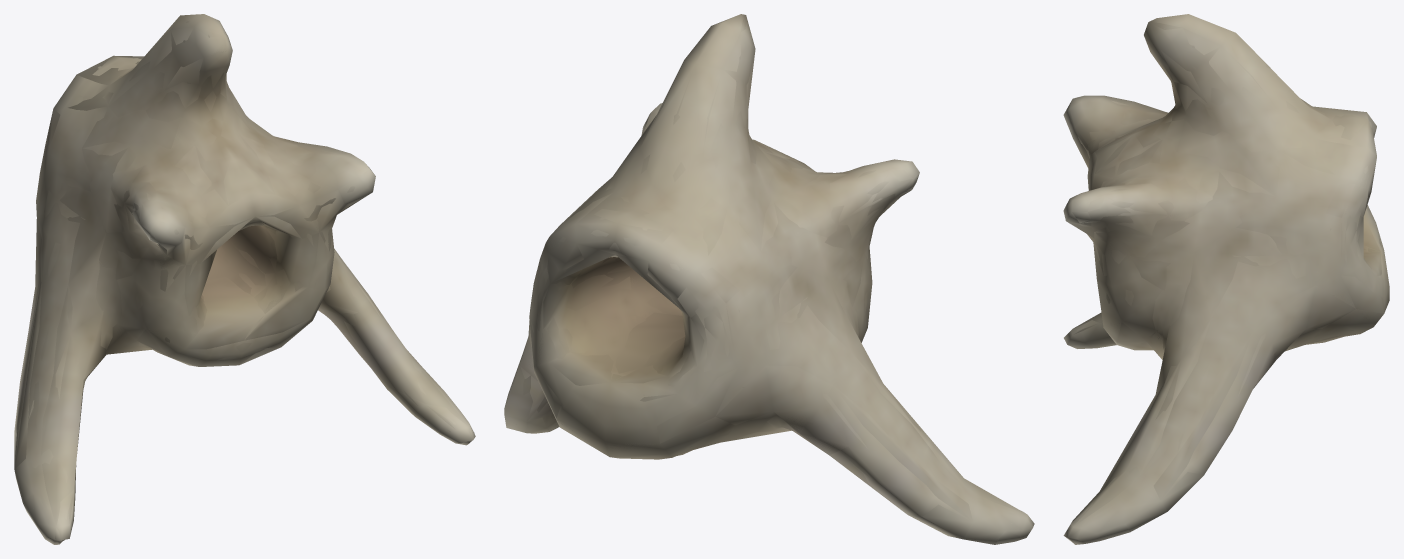
The model's file is vertebrae lumbales 4.fbx.
3 views of the same model, side by side, from view 1: azimuth 30°, elevation 25°; view 2: azimuth 150°, elevation 25°; view 3: azimuth 270°, elevation 25° (orthographic). The views are drawn at different scales.
Parts seen in each view (by area): view 1: vertebrae lumbales 4 low, vertebrae lumbales 4, vertebrae lumbales 4 high; view 2: vertebrae lumbales 4, vertebrae lumbales 4 low, vertebrae lumbales 4 high; view 3: vertebrae lumbales 4, vertebrae lumbales 4 low, vertebrae lumbales 4 high.
Part boxes in pixels (box(x1,y1,x2,y2)): vertebrae lumbales 4 low: box(14, 15, 475, 540); vertebrae lumbales 4: box(14, 14, 475, 544); vertebrae lumbales 4 high: box(28, 21, 467, 542); vertebrae lumbales 4: box(504, 14, 1034, 544); vertebrae lumbales 4 low: box(504, 16, 1026, 544); vertebrae lumbales 4 high: box(515, 27, 1014, 527); vertebrae lumbales 4: box(1063, 14, 1389, 544); vertebrae lumbales 4 low: box(1064, 22, 1384, 543); vertebrae lumbales 4 high: box(1069, 28, 1372, 541).
Size of the model in its own units: 2.09 by 2.03 by 1.39.
1 material, 1 textured.
